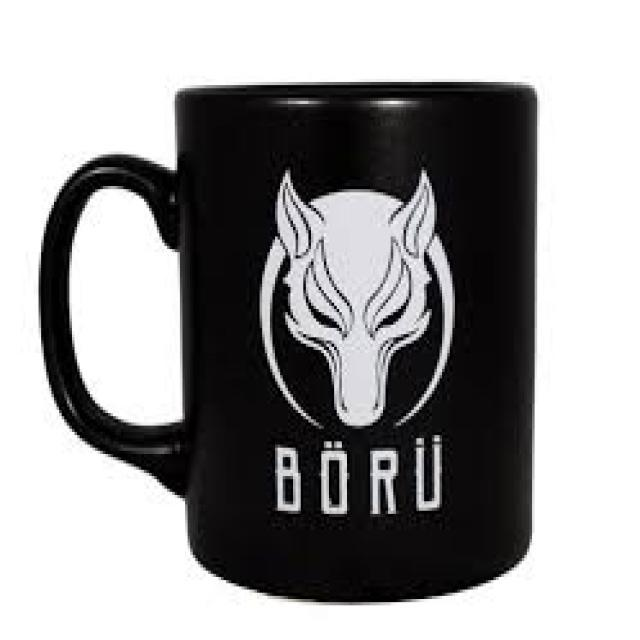taza: (39, 80, 538, 604)
